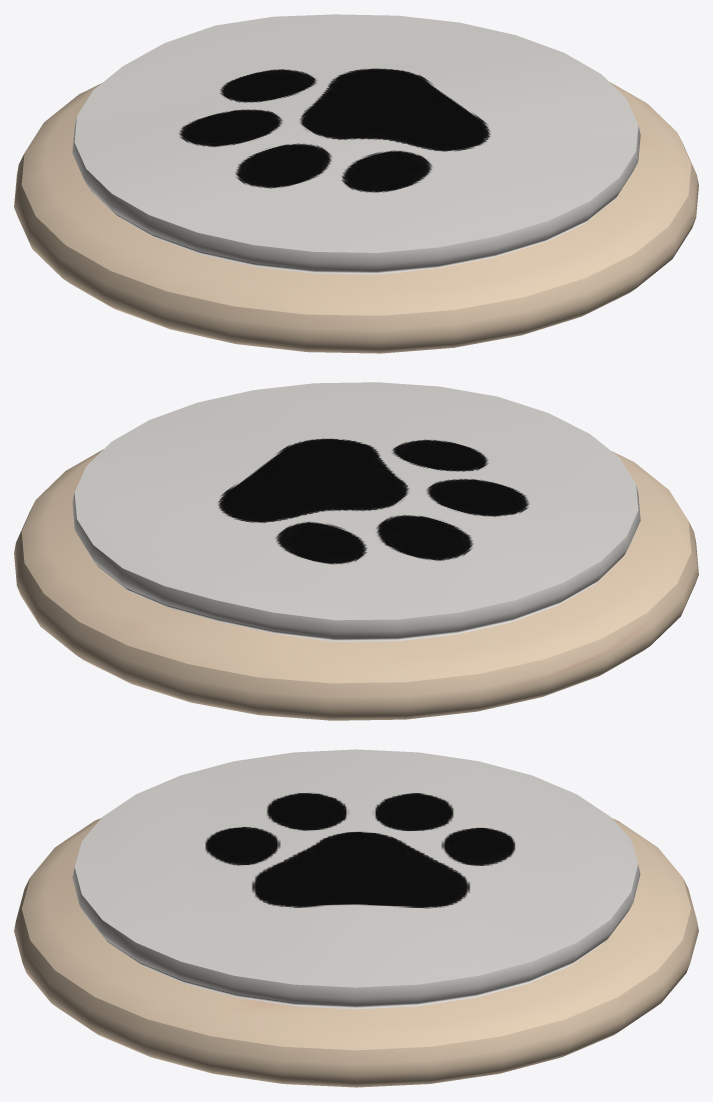
The model's file is Cookie.fbx.
3 views of the same model, one above another, from view 1: azimuth 30°, elevation 25°; view 2: azimuth 150°, elevation 25°; view 3: azimuth 270°, elevation 25° (orthographic).
Parts seen in each view (by area): view 1: Cookie; view 2: Cookie; view 3: Cookie.
Part boxes in pixels (x1,y1,x2,y2): Cookie: (14, 14, 698, 353); Cookie: (14, 382, 698, 720); Cookie: (14, 749, 698, 1087).
Size of the model in its own units: 0.7975 by 0.1286 by 0.798.
Materials: 1 (1 with a texture image).
